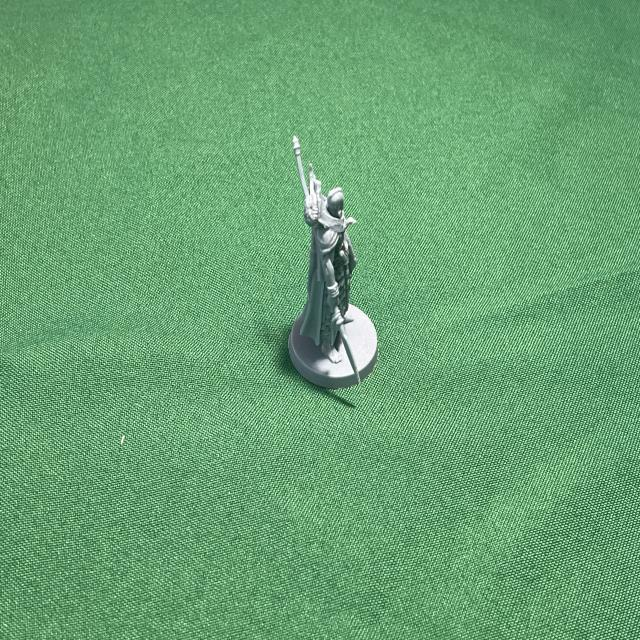isis_follower: (286, 126, 388, 393)
